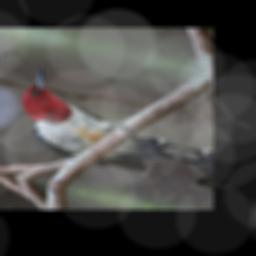Woodpecker: (3, 66, 200, 182)
